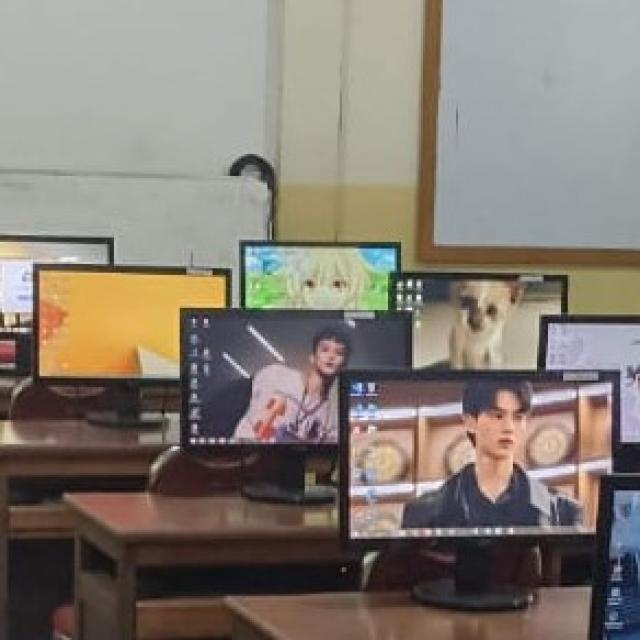onscreen: (346, 373, 612, 538), (180, 309, 411, 447), (35, 267, 229, 378), (396, 272, 568, 369), (545, 317, 640, 442), (241, 242, 398, 310), (0, 236, 112, 327), (602, 489, 640, 639)
